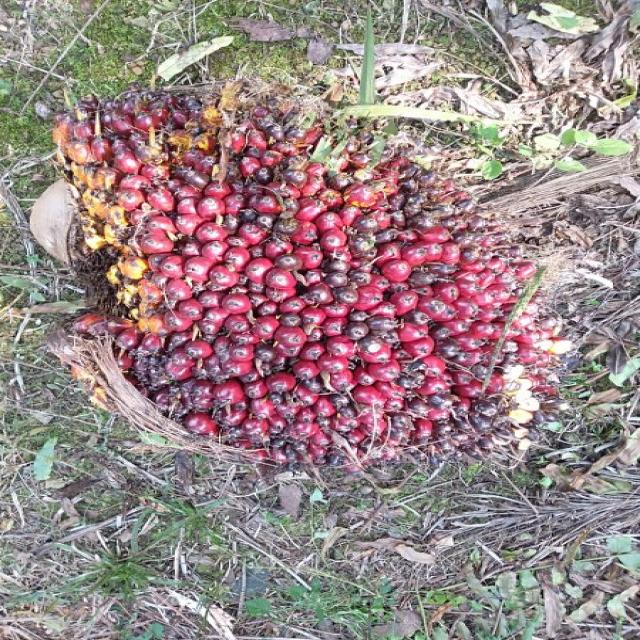fraksi 1: (25, 40, 594, 525)
